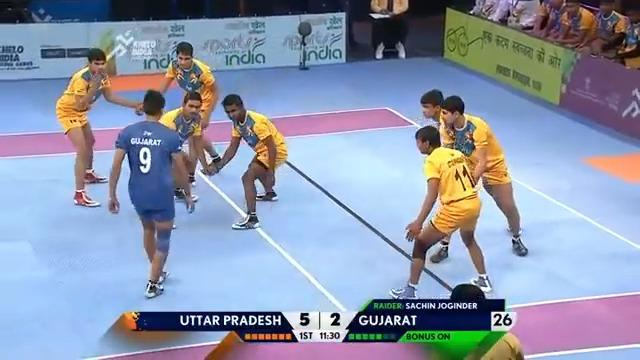Player: (389, 124, 493, 299), (429, 94, 528, 263), (55, 47, 143, 207), (203, 93, 288, 230), (155, 41, 221, 186), (157, 90, 206, 228)
Raider: (107, 88, 198, 298)
referee: (448, 282, 525, 359), (368, 0, 409, 59)
